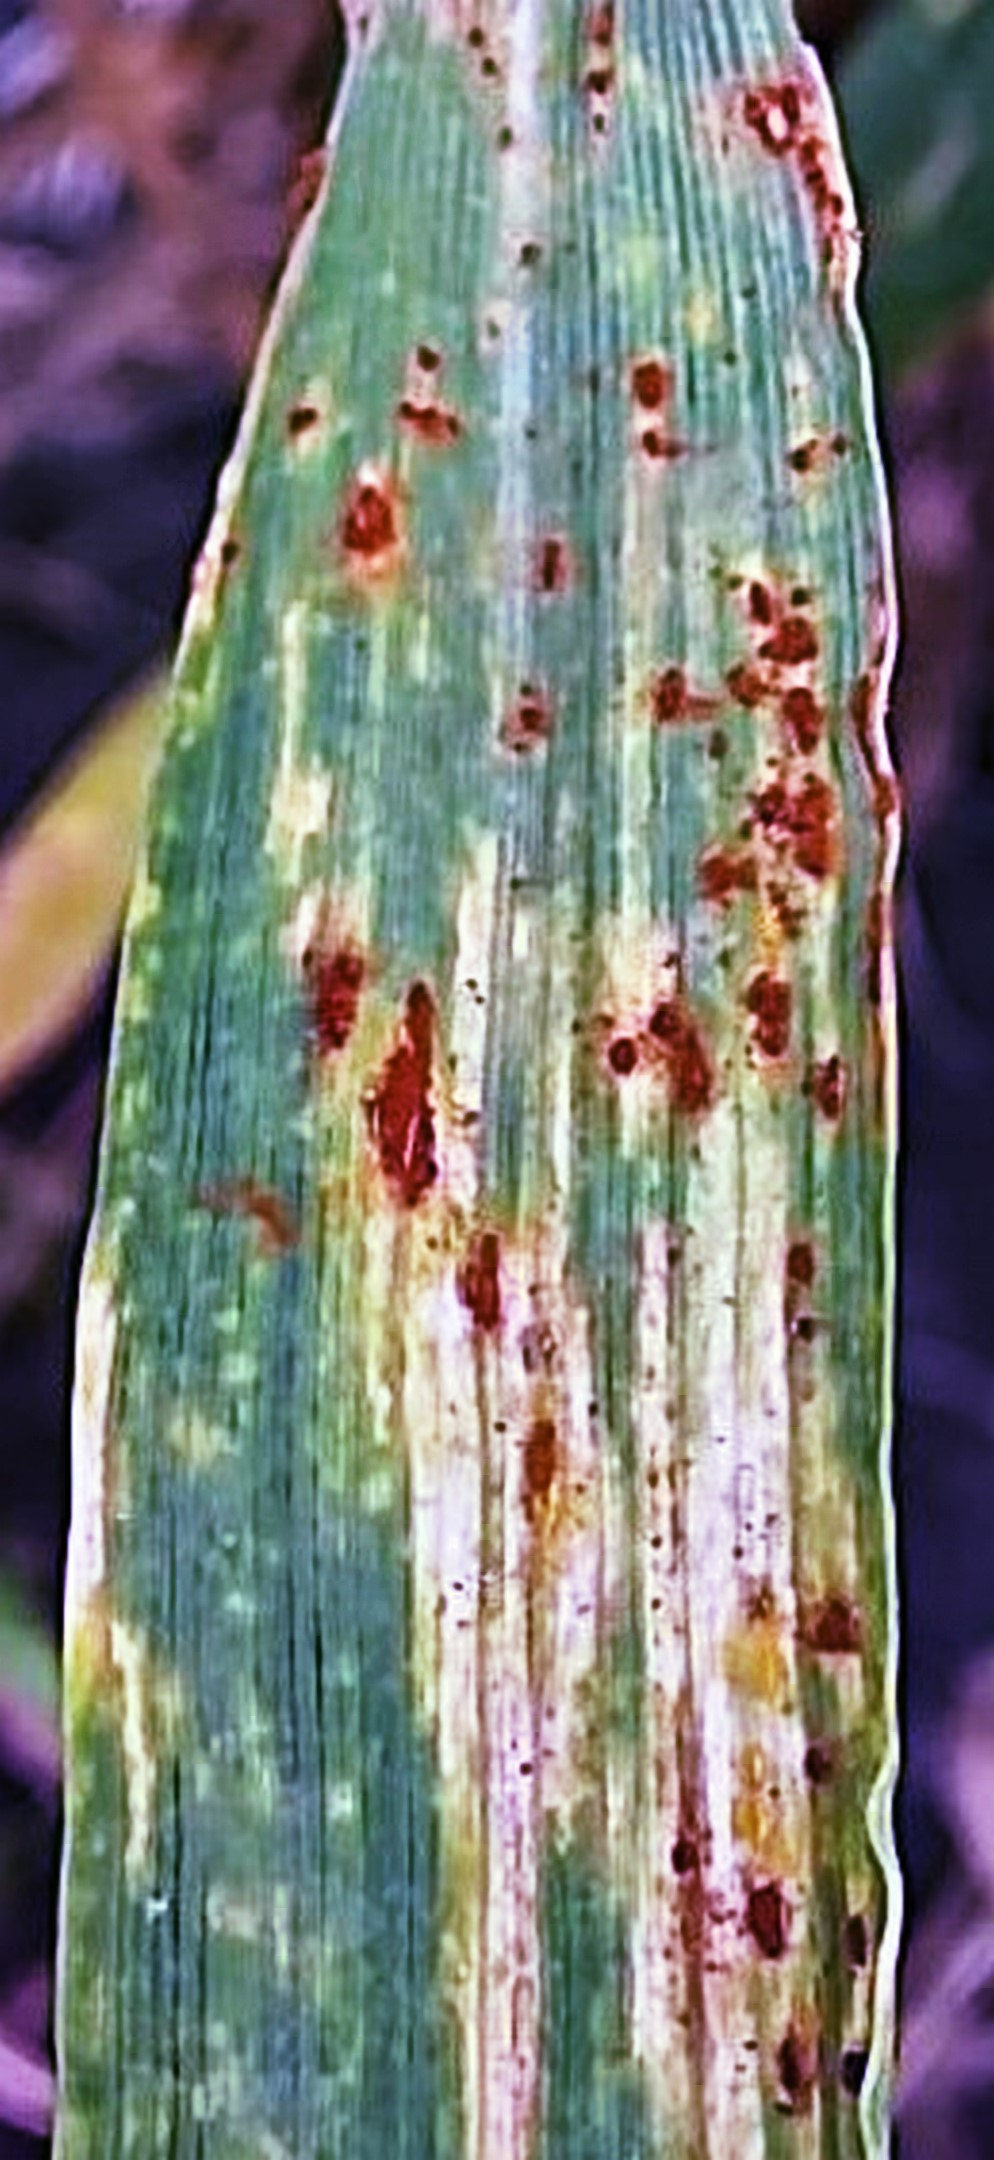Leaf Rust: (135, 220, 994, 1557)
